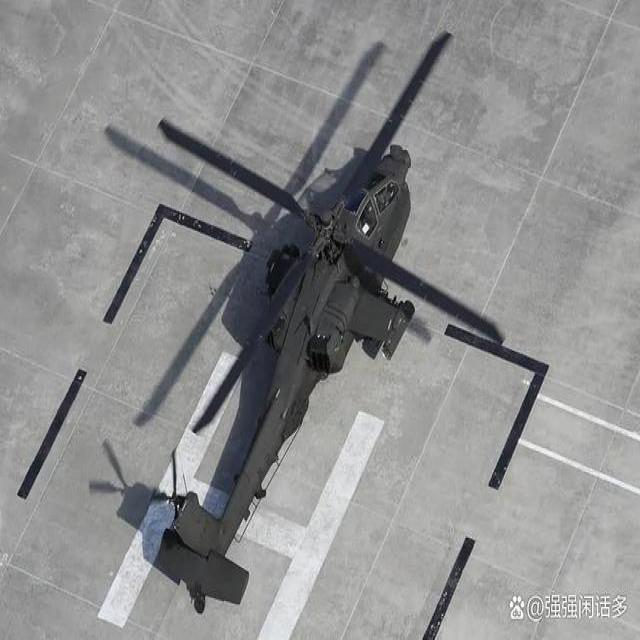MIL_HELO: (117, 21, 509, 637)
